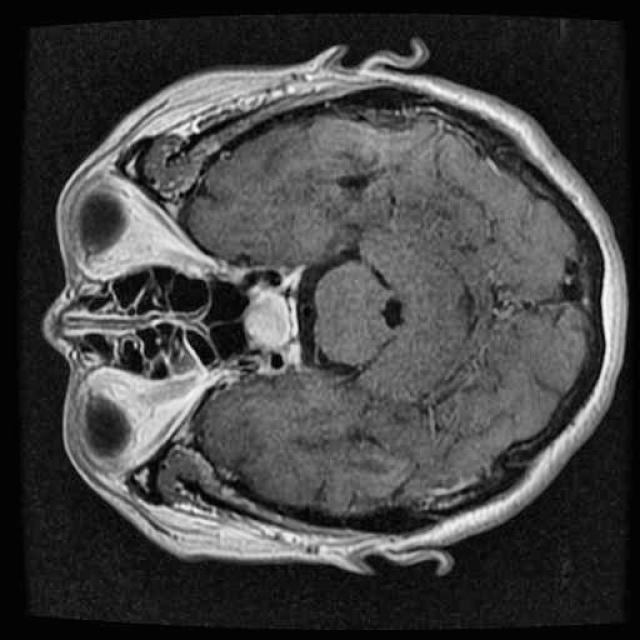Tumor: (236, 275, 304, 364)
